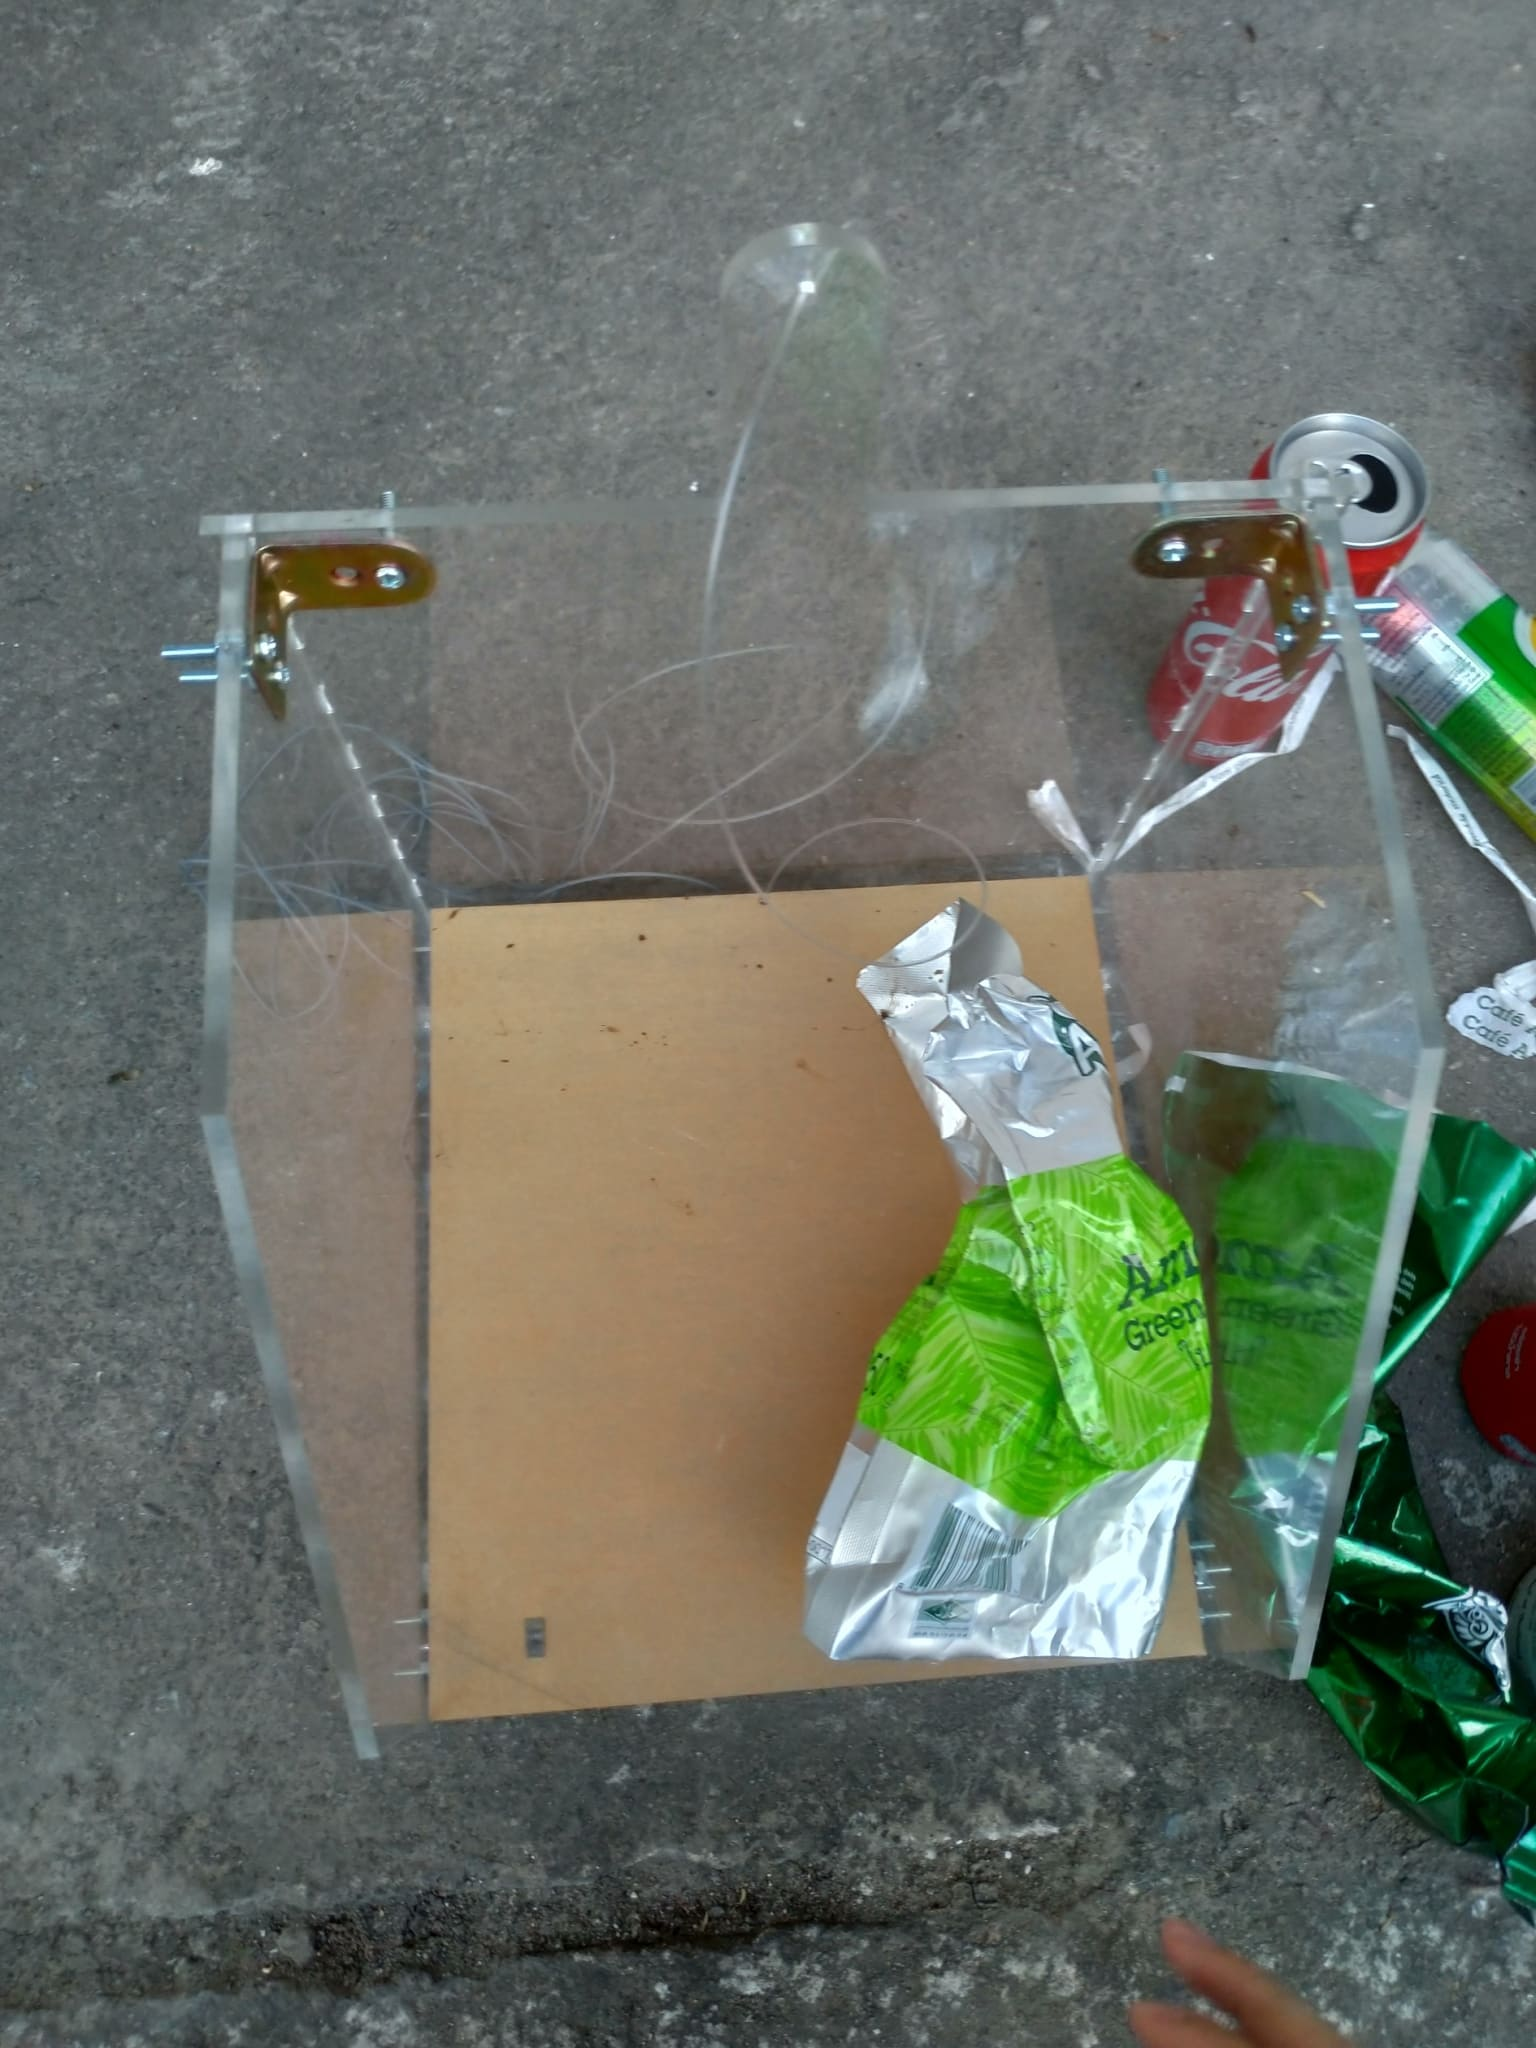AlCan: (1150, 405, 1425, 777), (1357, 527, 1536, 813)
Others: (1167, 1034, 1536, 1914), (803, 918, 1197, 1645)
